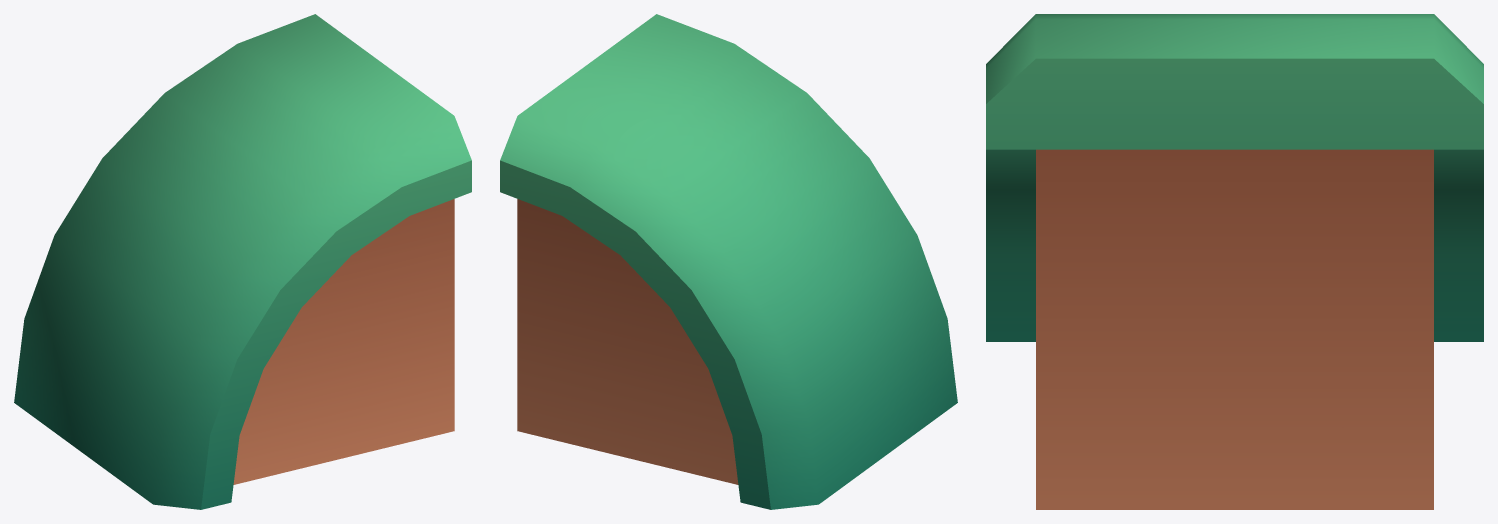
The model's file is block-grass-curve-half.glb.
3 renders of one model, left to right at view 1: azimuth 30°, elevation 25°; view 2: azimuth 150°, elevation 25°; view 3: azimuth 270°, elevation 25°, orthographic. The views are drawn at different scales.
Visible parts, largest first — view 1: block-grass-curve-half; view 2: block-grass-curve-half; view 3: block-grass-curve-half.
Part boxes in pixels (left/top/right/bottom): block-grass-curve-half: left=14, top=14, right=471, bottom=509; block-grass-curve-half: left=500, top=14, right=957, bottom=509; block-grass-curve-half: left=986, top=14, right=1483, bottom=509.
Size of the model in its own units: 1 by 1 by 1.
Materials: 1 (1 with a texture image).
